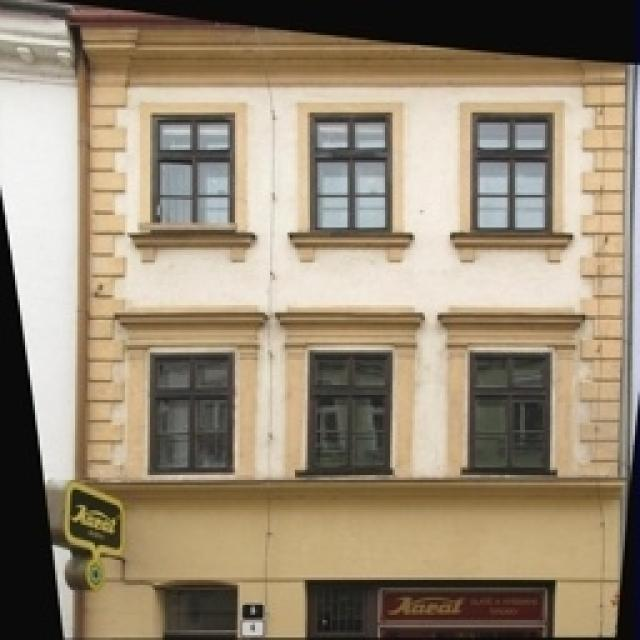building: (72, 0, 640, 640)
